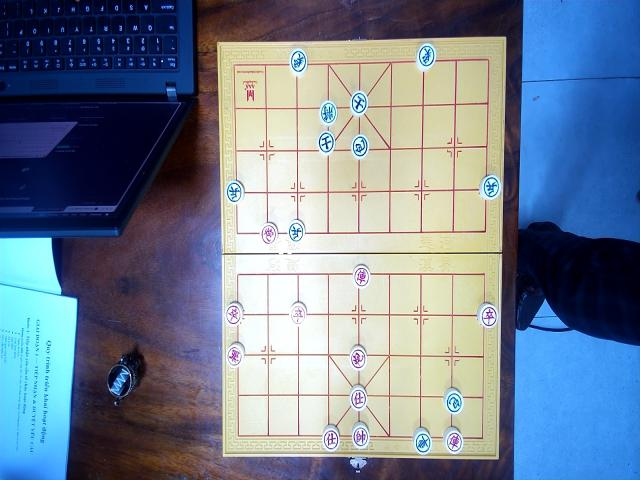piece: (415, 42, 437, 71), (479, 173, 501, 201), (442, 426, 463, 454), (288, 47, 308, 76), (477, 302, 498, 329), (443, 387, 463, 415), (412, 428, 432, 456), (318, 99, 338, 126), (224, 179, 244, 205), (350, 133, 370, 159), (226, 341, 245, 368), (322, 425, 341, 452), (351, 422, 370, 449), (349, 384, 367, 411), (225, 301, 243, 327), (350, 345, 368, 371), (317, 130, 335, 155), (350, 90, 368, 115), (353, 264, 371, 289), (290, 301, 307, 326), (260, 223, 278, 245), (289, 219, 305, 243)
